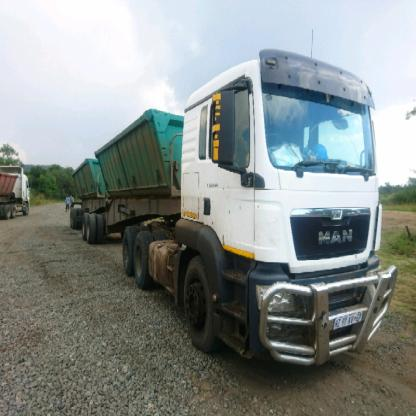dump_truck: (57, 51, 400, 374), (1, 160, 42, 225)
